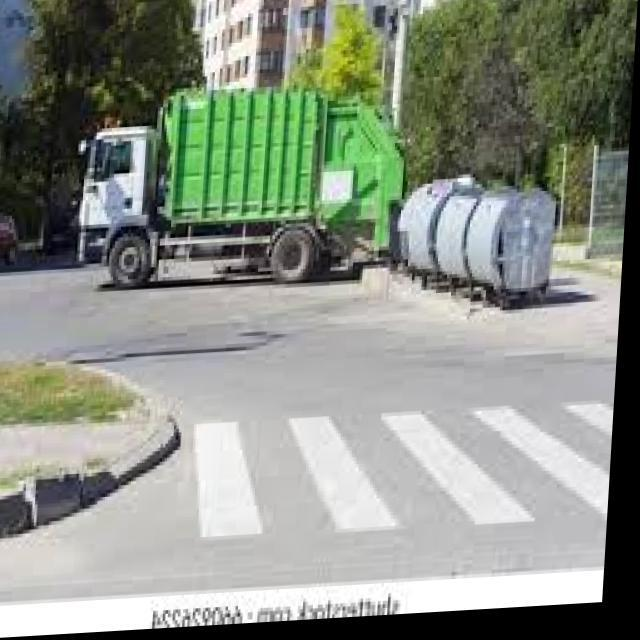covered: (73, 76, 418, 298)
